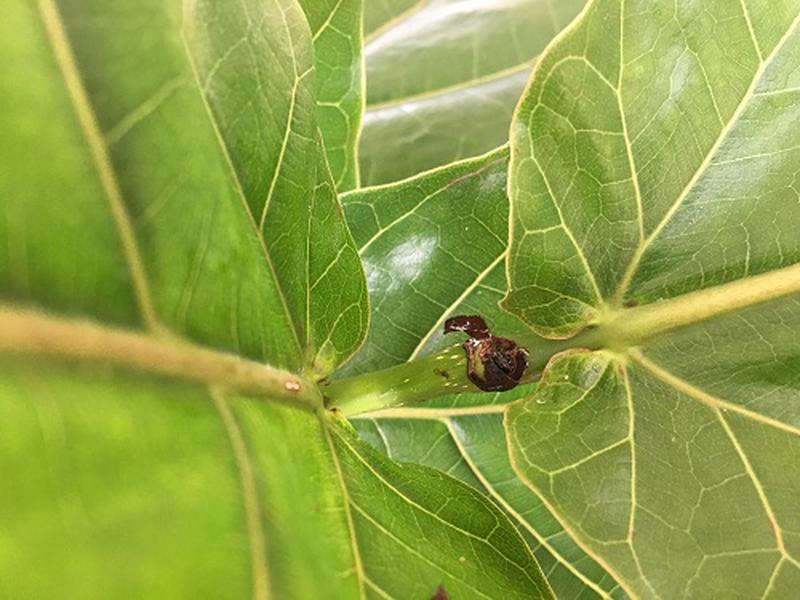Mealy_bug: (435, 304, 539, 403)
